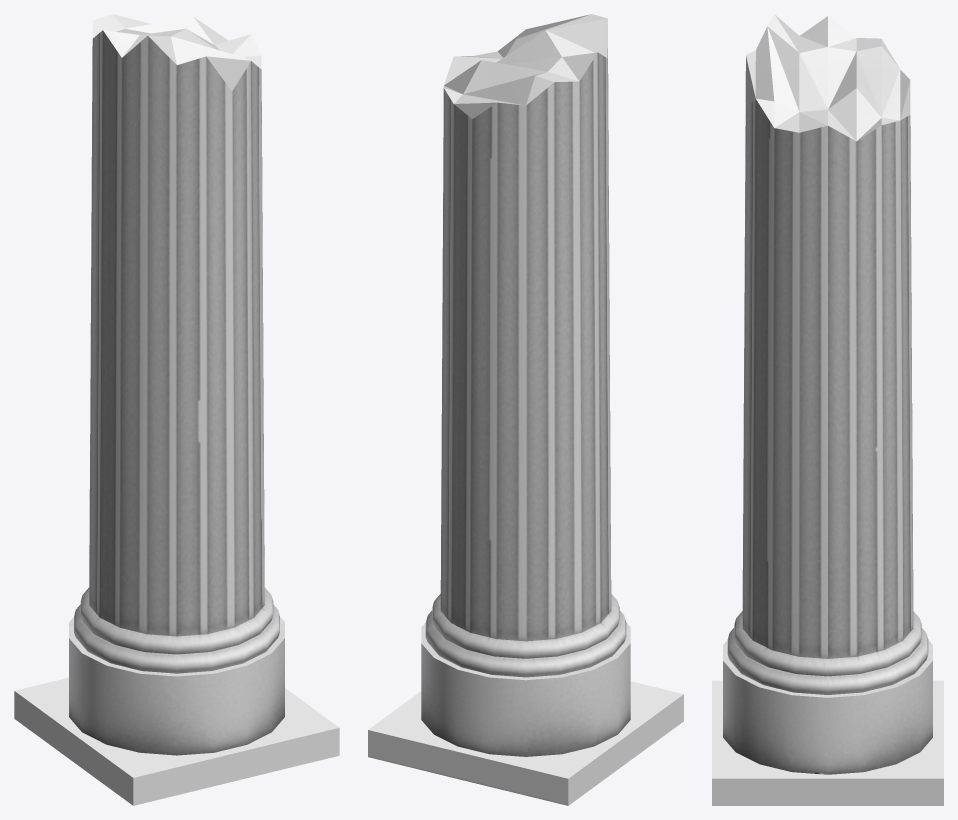
Rendered from PillarBroken_01.fbx.
3 views of the same model, side by side, from view 1: azimuth 30°, elevation 25°; view 2: azimuth 150°, elevation 25°; view 3: azimuth 270°, elevation 25° (orthographic). The views are drawn at different scales.
Parts seen in each view (by area): view 1: PillarBroken_low_01; view 2: PillarBroken_low_01; view 3: PillarBroken_low_01.
Boxes of the visible parts, bbox=[...] form: PillarBroken_low_01: bbox=[14, 14, 339, 805]; PillarBroken_low_01: bbox=[368, 14, 683, 805]; PillarBroken_low_01: bbox=[712, 14, 943, 805].
Bounding box in the file's own units: 106 × 361 × 106.
